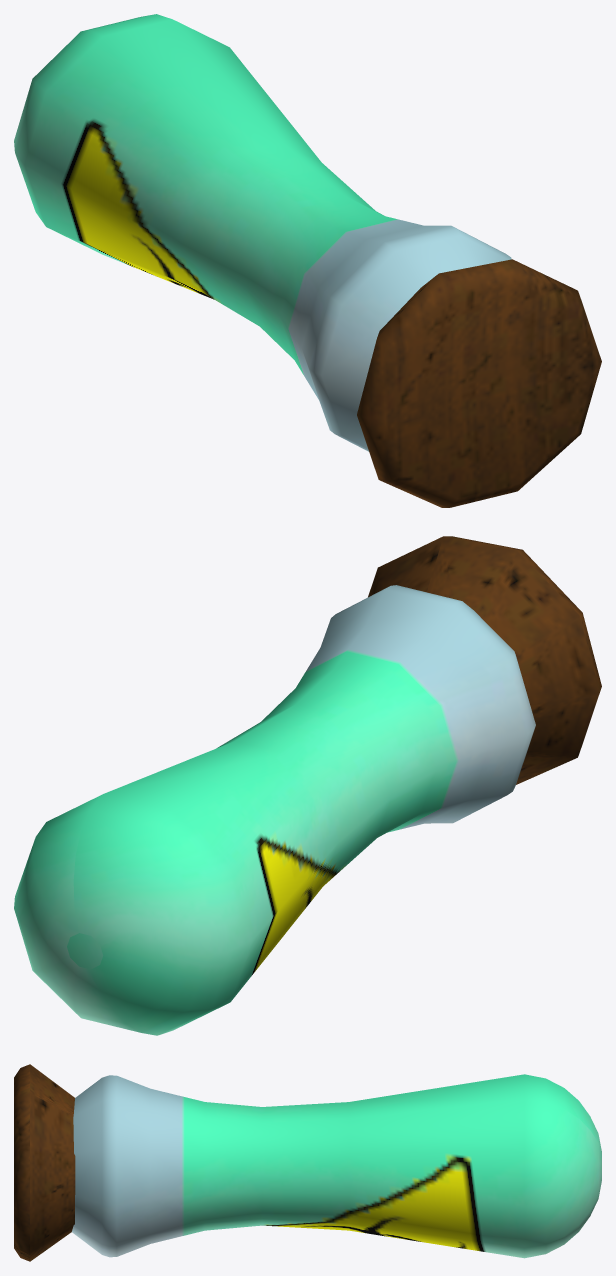
Rendered from Mysterious Vial.obj.
3 views of the same model, one above another, from view 1: azimuth 30°, elevation 25°; view 2: azimuth 150°, elevation 25°; view 3: azimuth 270°, elevation 25° (orthographic). The views are drawn at different scales.
Parts seen in each view (by area): view 1: MysteriousVial; view 2: MysteriousVial; view 3: MysteriousVial.
Boxes of the visible parts, bbox=[...] form: MysteriousVial: bbox=[14, 14, 601, 507]; MysteriousVial: bbox=[14, 536, 601, 1035]; MysteriousVial: bbox=[14, 1064, 601, 1261].
Bounding box in the file's own units: 0.0956 × 0.0884 × 0.2748.
